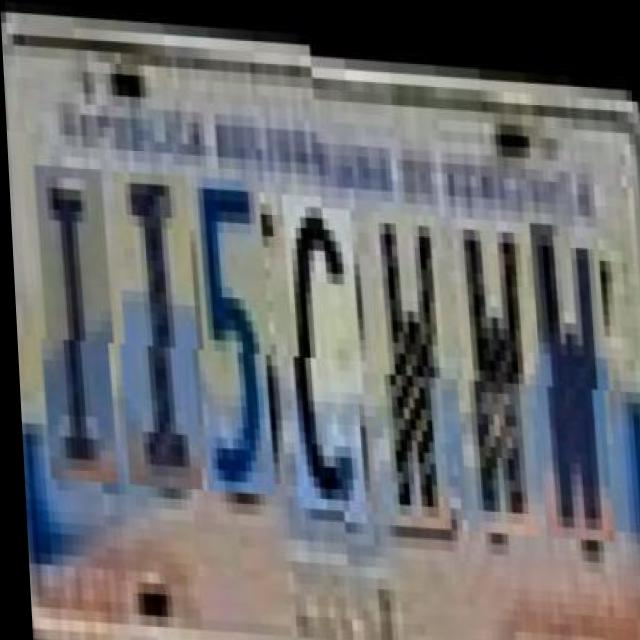5: (189, 185, 274, 503)
c: (280, 200, 365, 519)
i: (111, 180, 201, 498), (32, 176, 117, 494)
w: (448, 210, 540, 528), (364, 205, 449, 524), (526, 215, 611, 533)
